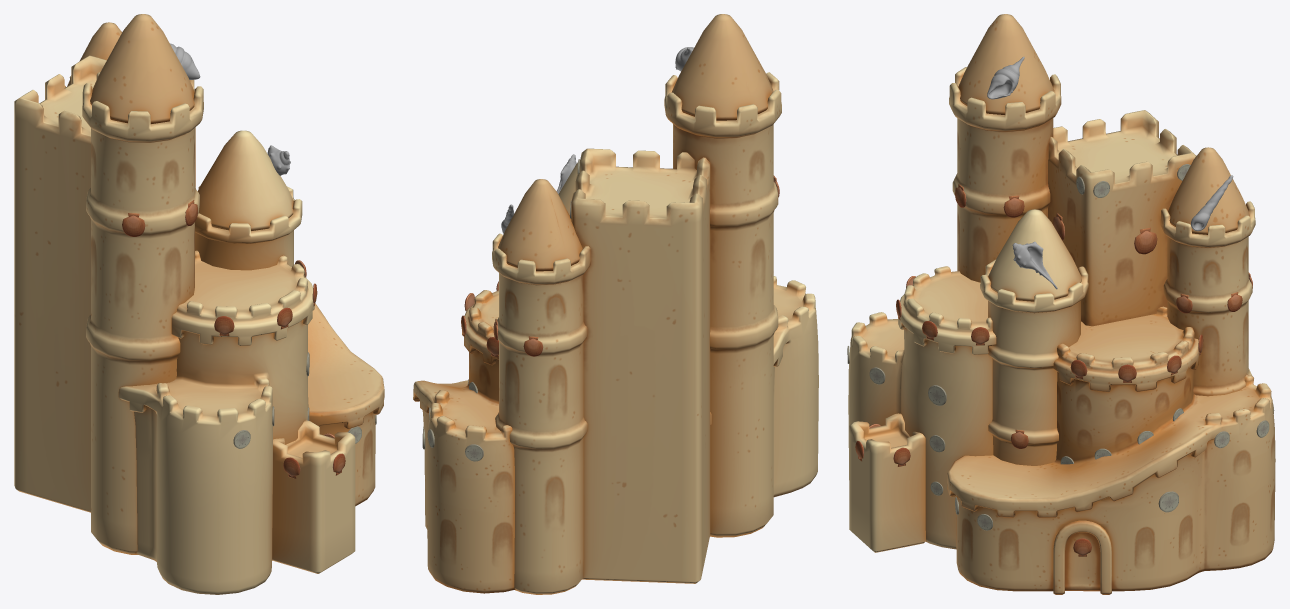
Rendered from SandCastle_Part3_Full.fbx.
3 views of the same model, side by side, from view 1: azimuth 30°, elevation 25°; view 2: azimuth 150°, elevation 25°; view 3: azimuth 270°, elevation 25° (orthographic). The views are drawn at different scales.
Visible parts, largest first — view 1: Base (×2), Tower_Base (×2), Tower, Tower_Roof (×3), LittleTower; view 2: Tower_Base (×2), Tower, Base (×2), Tower_Roof (×2); view 3: Base (×2), Tower_Base (×3), Tower, Tower_Roof (×3), LittleTower, Doorway, specialshell3:Mesh, specialshell1:Mesh, specialshell2:Mesh.
Part boxes in pixels (x1,y1,x2,y2): Base (×2): (118,250,384,594); Tower_Base (×2): (82,72,302,554); Tower: (14,55,195,512); Tower_Roof (×3): (67,14,293,230); LittleTower: (272,420,355,573); Tower_Base (×2): (492,72,781,594); Tower: (571,148,710,583); Base (×2): (413,276,818,593); Tower_Roof (×2): (498,14,773,271); Base (×2): (848,266,1275,591); Tower_Base (×3): (949,67,1255,465); Tower: (1048,110,1196,326); Tower_Roof (×3): (958,14,1249,301); LittleTower: (849,413,925,552); Doorway: (1053,520,1111,594); specialshell3:Mesh: (987,56,1024,99); specialshell1:Mesh: (1012,241,1057,289); specialshell2:Mesh: (1191,175,1233,231).
Size of the model in its own units: 10.49 by 18.02 by 14.61.
